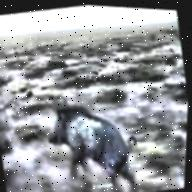boar: (40, 84, 142, 192)
